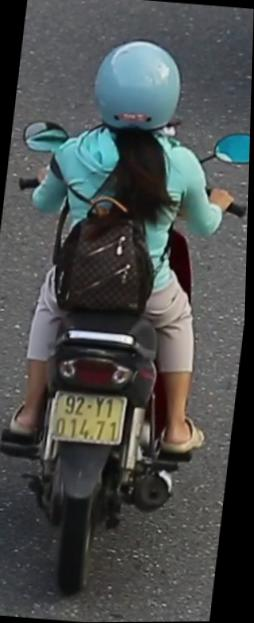LP: (46, 382, 135, 452)
helmet: (84, 30, 192, 150)
